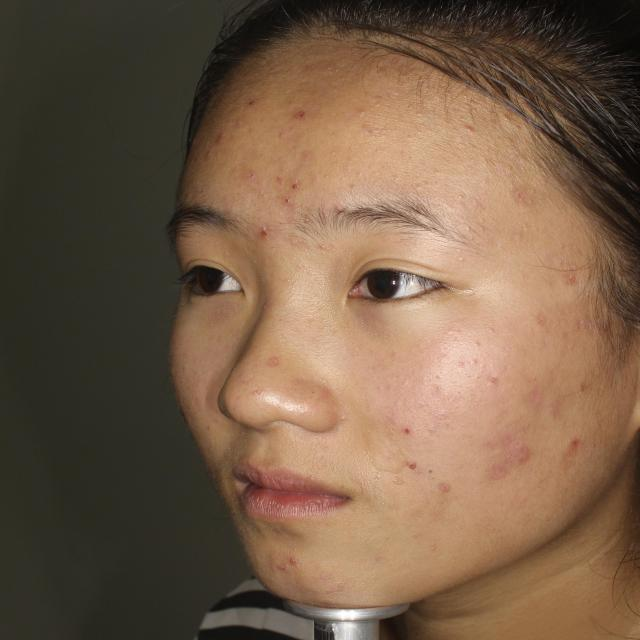pustule: (265, 172, 306, 216), (563, 429, 598, 466), (500, 444, 538, 474), (393, 450, 429, 480), (283, 100, 320, 123), (205, 130, 234, 156), (390, 418, 421, 441), (564, 376, 590, 402), (557, 264, 580, 289), (256, 211, 270, 244), (276, 553, 300, 571)
